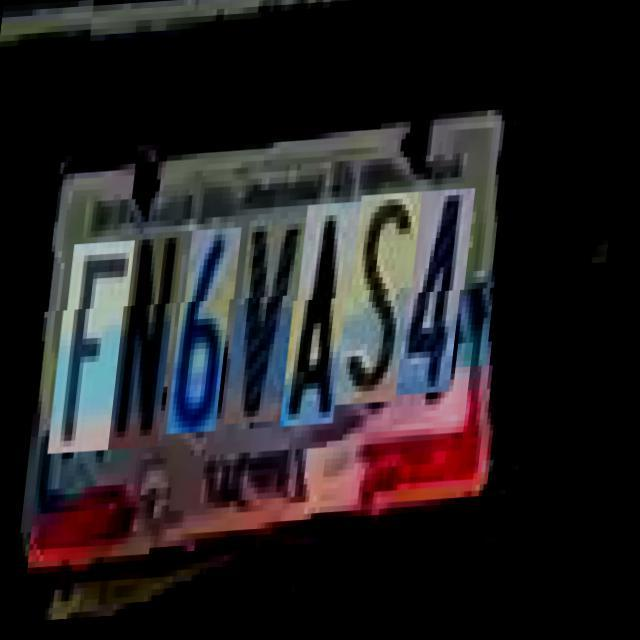4: (410, 195, 480, 401)
6: (180, 231, 248, 437)
A: (294, 207, 366, 431)
F: (62, 242, 141, 456)
N: (122, 234, 190, 452)
S: (348, 198, 428, 410)
V: (238, 222, 312, 428)
